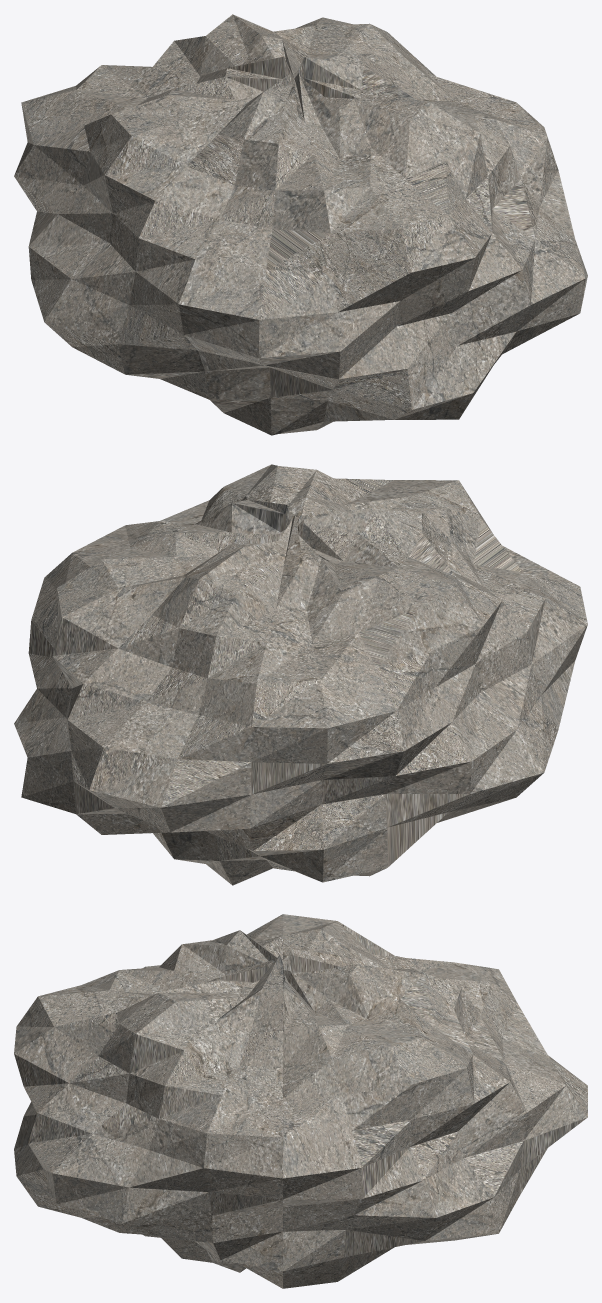
File: boulder_2.obj
The picture shows the model from 3 angles, top to bottom: view 1: azimuth 30°, elevation 25°; view 2: azimuth 150°, elevation 25°; view 3: azimuth 270°, elevation 25°; orthographic projection. The views are drawn at different scales.
Parts seen in each view (by area): view 1: Mountain_Granite; view 2: Mountain_Granite; view 3: Mountain_Granite.
Part boxes in pixels (left/top/right/bottom): Mountain_Granite: left=14, top=14, right=587, bottom=435; Mountain_Granite: left=14, top=464, right=587, bottom=885; Mountain_Granite: left=14, top=914, right=587, bottom=1288.
Size of the model in its own units: 2.58 by 1.65 by 2.84.
